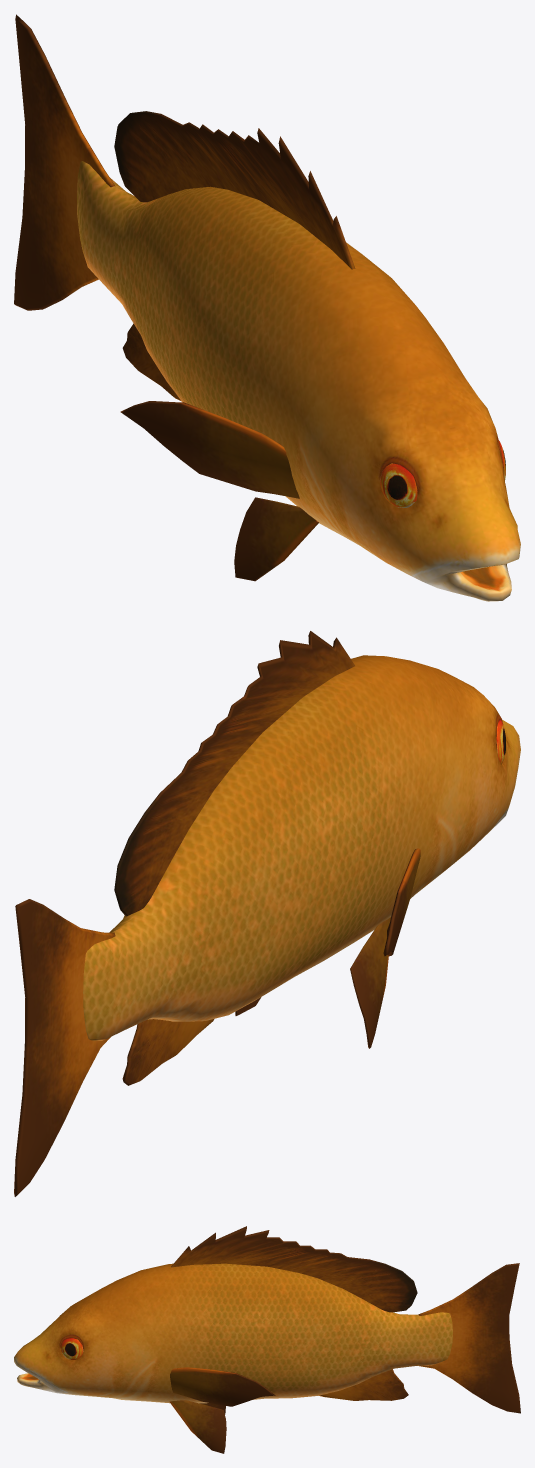
The model's file is celestial_koi.glb.
3 views of the same model, one above another, from view 1: azimuth 30°, elevation 25°; view 2: azimuth 150°, elevation 25°; view 3: azimuth 270°, elevation 25° (orthographic). The views are drawn at different scales.
Visible parts, largest first — view 1: fish_vertColor_low; view 2: fish_vertColor_low; view 3: fish_vertColor_low.
Part boxes in pixels (x1,y1,x2,y2): fish_vertColor_low: (14,14,520,601); fish_vertColor_low: (14,631,520,1196); fish_vertColor_low: (14,1226,520,1453).
Bounding box in the file's own units: 12.55 × 18.45 × 40.16.
1 material, 1 textured.
